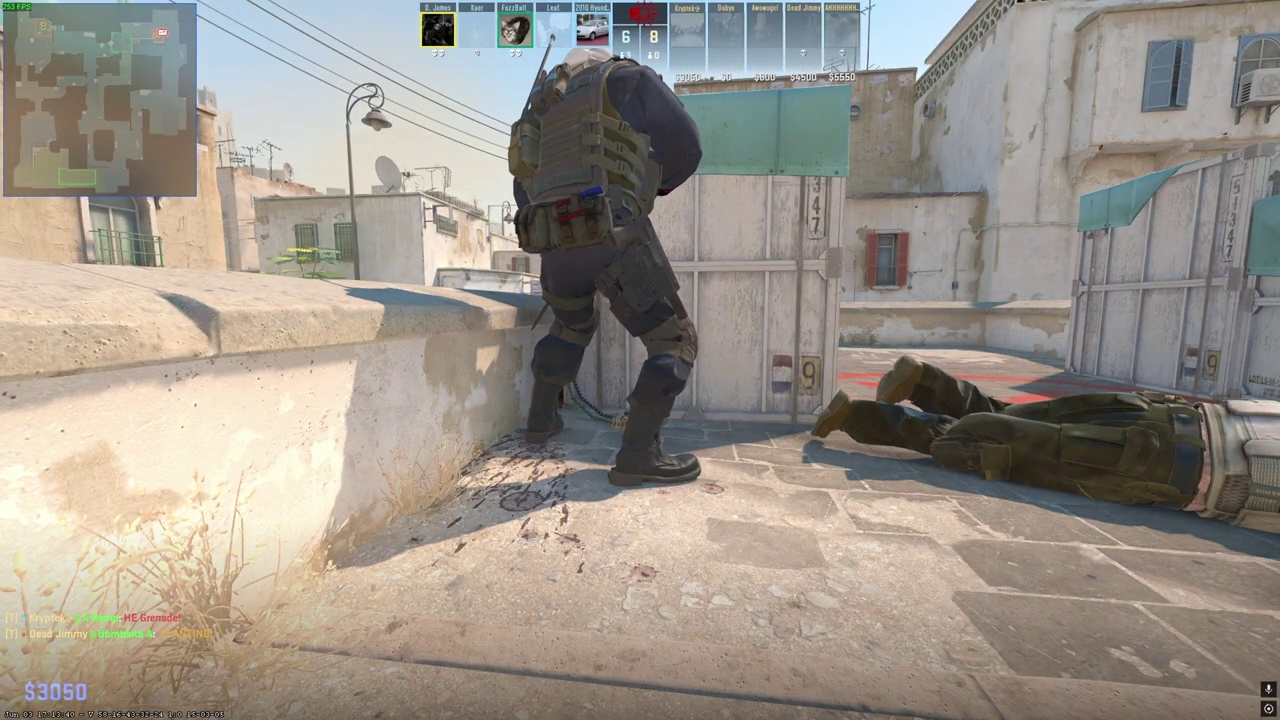CT: (508, 47, 701, 487)
